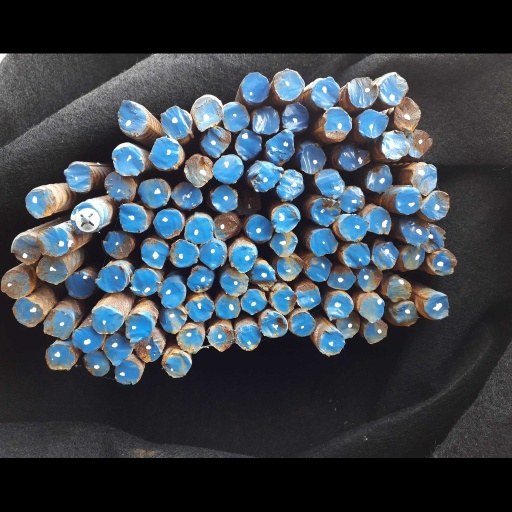dipstick: (265, 129, 294, 165), (112, 143, 144, 175), (70, 201, 102, 233), (192, 95, 223, 128), (25, 186, 56, 218), (248, 160, 280, 191), (117, 100, 147, 133), (378, 72, 408, 105), (347, 77, 378, 108), (149, 137, 179, 169), (161, 106, 191, 138), (322, 108, 352, 140), (37, 226, 68, 256), (274, 69, 304, 100), (313, 168, 344, 198), (184, 154, 213, 186), (104, 230, 137, 258), (43, 309, 73, 339), (139, 179, 170, 208), (12, 297, 43, 326), (140, 238, 169, 269), (311, 78, 340, 109), (96, 265, 129, 292), (394, 97, 420, 131), (338, 213, 368, 242), (358, 109, 388, 138), (91, 306, 123, 333), (153, 209, 182, 238), (202, 127, 231, 156), (64, 162, 92, 192), (105, 171, 135, 199), (36, 255, 66, 283), (276, 170, 304, 200), (411, 164, 437, 196), (119, 203, 147, 232), (11, 235, 40, 263), (1, 270, 30, 298), (272, 204, 300, 233), (381, 130, 409, 159), (172, 181, 202, 208), (242, 72, 269, 102), (235, 129, 262, 159), (72, 326, 103, 352), (45, 345, 77, 370), (185, 215, 213, 243), (246, 215, 274, 243), (135, 335, 164, 362), (199, 240, 226, 269), (229, 244, 256, 273), (311, 199, 340, 226), (422, 190, 449, 219), (400, 217, 429, 244), (65, 272, 95, 298), (223, 102, 249, 132), (159, 306, 187, 333), (170, 240, 198, 267), (282, 103, 309, 131), (270, 286, 297, 314), (309, 229, 337, 256), (339, 144, 367, 171), (406, 130, 433, 158), (364, 206, 391, 234), (131, 269, 160, 295), (253, 105, 279, 134), (300, 144, 326, 173), (396, 185, 422, 214), (427, 248, 456, 274), (103, 334, 133, 359), (326, 265, 356, 290), (125, 313, 152, 340), (210, 185, 237, 212), (338, 186, 365, 213), (159, 280, 185, 308), (220, 270, 248, 296), (342, 242, 370, 268), (162, 352, 191, 377), (176, 327, 203, 353), (187, 266, 214, 292), (214, 213, 240, 240), (270, 231, 297, 257), (207, 325, 233, 352), (276, 255, 303, 281), (327, 293, 353, 320), (366, 165, 392, 192), (372, 242, 398, 269), (83, 351, 110, 376), (236, 324, 261, 351), (260, 312, 287, 337), (304, 256, 331, 281), (358, 265, 383, 292), (336, 310, 360, 338), (114, 360, 141, 384), (186, 296, 213, 320), (288, 312, 315, 336), (252, 261, 276, 288), (241, 289, 266, 314), (295, 284, 320, 309), (359, 297, 384, 322), (216, 293, 240, 319), (318, 331, 344, 355), (363, 319, 387, 344), (424, 294, 448, 319), (422, 224, 444, 251), (386, 278, 411, 301), (402, 244, 424, 269), (394, 302, 417, 323)
